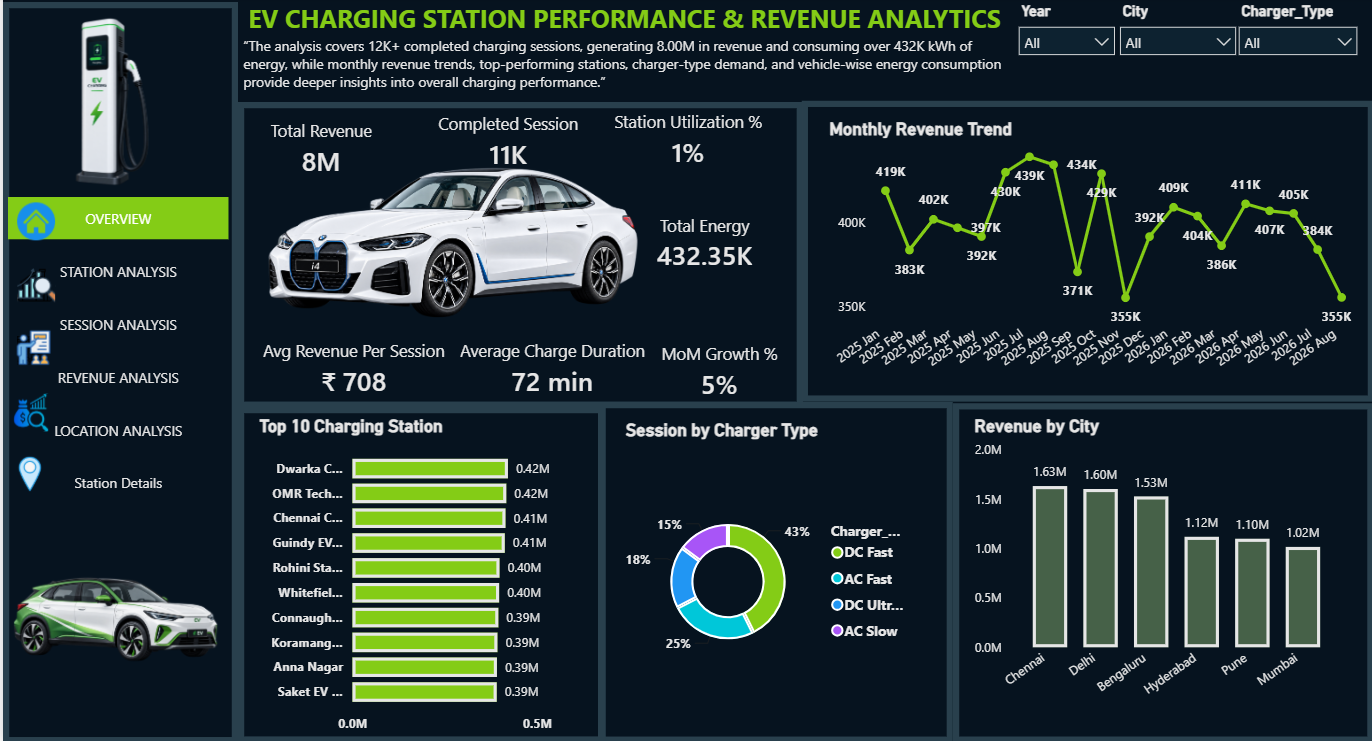

The page's visual inventory and layout, read from the dashboard file:
{"tool":"powerbi","page":{"name":"OVERVIEW","canvas":[1323,720],"ordinal":0},"visuals":[{"type":"shape","box":[574.3,395.7,342.6,324.5],"z":0},{"type":"donutChart","title":"Session by Charger Type","fields":{"Category":["EV_Charging_Station.Charger_Type"],"Y":["measure.Completed Session"]},"box":[595.7,408.3,292.9,294.1],"z":1000},{"type":"actionButton","box":[4.8,482.6,208.7,229.2],"z":2000},{"type":"pageNavigator","box":[4.8,193,213.5,300.4],"z":3000},{"type":"actionButton","box":[16.9,14.5,196.6,173.7],"z":4000},{"type":"textbox","box":[226.3,32.5,745.3,77.5],"z":5000},{"type":"textbox","box":[231.3,0,740.3,42.5],"z":6000},{"type":"shape","box":[0,4.8,226.8,715.4],"z":7000},{"type":"shape","box":[916.9,392.1,406.6,328.2],"z":8000},{"type":"shape","box":[770.9,101.3,552.5,295.6],"z":9000},{"type":"shape","box":[226.3,101.3,545.2,295.1],"z":10000},{"type":"shape","box":[227.1,395.9,355,323.9],"z":11000},{"type":"image","box":[242.5,101.3,380,266.6],"z":12000},{"type":"cardVisual","fields":{"Data":["measure.Total Revenue"]},"box":[231.6,91.7,164.1,92.9],"z":13000},{"type":"cardVisual","fields":{"Data":["measure.Completed Session"]},"box":[386.1,92.9,203.9,92.9],"z":14000},{"type":"cardVisual","fields":{"Data":["measure.Total Energy"]},"box":[590.8,192.4,172.5,91.8],"z":15000},{"type":"cardVisual","fields":{"Data":["measure.Avg Revenue Per Session"]},"box":[213.5,312.5,250.9,92.9],"z":16000},{"type":"cardVisual","fields":{"Data":["measure.Average Charge Duration"]},"box":[405.4,312.5,250.9,92.9],"z":17000},{"type":"cardVisual","fields":{"Data":["measure.MoM Growth %"]},"box":[589.9,314.9,203.9,92.9],"z":18000},{"type":"cardVisual","fields":{"Data":["measure.Station Utilization %"]},"box":[559.8,91.7,203.9,92.9],"z":19000},{"type":"lineChart","title":"Monthly Revenue Trend","fields":{"Y":["measure.Completed Revenue"],"Category":["Calander.Year_Month"]},"box":[793.1,116.7,513.8,261.9],"z":20000},{"type":"barChart","title":"Top 10 Charging Station ","fields":{"Category":["EV_Charging_Station.Station_Name"],"Y":["measure.Completed Revenue"]},"box":[242,404.6,328.9,315.2],"z":21000},{"type":"clusteredColumnChart","title":"Revenue by City","fields":{"Category":["EV_Charging_Station.City"],"Y":["measure.Total Revenue"]},"box":[932.1,404.6,364.9,291.7],"z":22000},{"type":"slicer","fields":{"Values":["Calander.Year"]},"box":[970.5,0,112.9,63.3],"z":23000},{"type":"actionButton","box":[10,253.8,42.5,50],"z":24000},{"type":"actionButton","box":[9.7,194.2,44.6,44.6],"z":25000},{"type":"actionButton","box":[10,256.3,45,45],"z":26000},{"type":"actionButton","box":[10.1,318.2,32.7,42.8],"z":27000},{"type":"actionButton","box":[10.1,321.9,32.7,40.2],"z":28000},{"type":"actionButton","box":[7.2,316.1,44.6,44.6],"z":29000},{"type":"actionButton","box":[4.8,378.8,44.6,44.6],"z":30000},{"type":"actionButton","box":[3.6,437.9,44.6,44.6],"z":31000},{"type":"slicer","fields":{"Values":["EV_Charging_Station.Charger_Type"]},"box":[1182.3,0,135.1,72.4],"z":32000},{"type":"slicer","fields":{"Values":["EV_Charging_Station.City"]},"box":[1067.3,0,132.8,58.3],"z":33000}]}

Visuals, with their boxes in screenshot pixels (x1, y1, x2, y2), scaled from the page's 1323x720 canvas onto the 1372x741 screenshot:
shape: box(596, 407, 951, 740)
"Session by Charger Type" donutChart: box(618, 420, 922, 723)
actionButton: box(5, 497, 221, 733)
pageNavigator: box(5, 199, 226, 508)
actionButton: box(18, 15, 221, 194)
textbox: box(235, 33, 1008, 113)
textbox: box(240, 0, 1008, 44)
shape: box(0, 5, 235, 740)
shape: box(951, 404, 1371, 740)
shape: box(799, 104, 1371, 408)
shape: box(235, 104, 800, 408)
shape: box(236, 407, 604, 740)
image: box(251, 104, 646, 379)
cardVisual - measure.Total Revenue: box(240, 94, 410, 190)
cardVisual - measure.Completed Session: box(400, 96, 612, 191)
cardVisual - measure.Total Energy: box(613, 198, 792, 292)
cardVisual - measure.Avg Revenue Per Session: box(221, 322, 482, 417)
cardVisual - measure.Average Charge Duration: box(420, 322, 681, 417)
cardVisual - measure.MoM Growth %: box(612, 324, 823, 420)
cardVisual - measure.Station Utilization %: box(581, 94, 792, 190)
"Monthly Revenue Trend" lineChart: box(822, 120, 1355, 390)
"Top 10 Charging Station " barChart: box(251, 416, 592, 740)
"Revenue by City" clusteredColumnChart: box(967, 416, 1345, 717)
slicer - Calander.Year: box(1006, 0, 1124, 65)
actionButton: box(10, 261, 54, 313)
actionButton: box(10, 200, 56, 246)
actionButton: box(10, 264, 57, 310)
actionButton: box(10, 327, 44, 372)
actionButton: box(10, 331, 44, 373)
actionButton: box(7, 325, 54, 371)
actionButton: box(5, 390, 51, 436)
actionButton: box(4, 451, 50, 497)
slicer - EV_Charging_Station.Charger_Type: box(1226, 0, 1366, 75)
slicer - EV_Charging_Station.City: box(1107, 0, 1245, 60)
